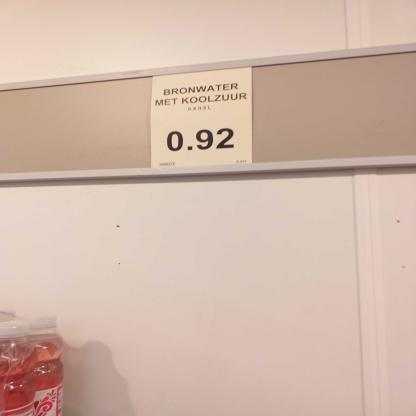prtg: (150, 67, 256, 169)
